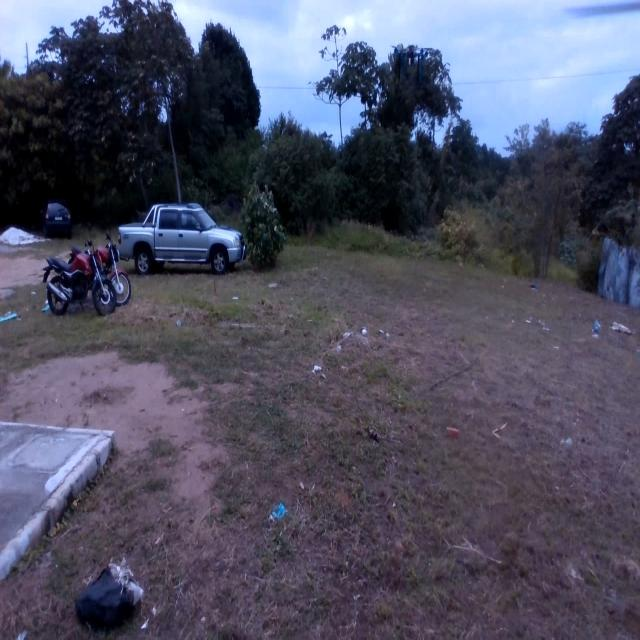-uav-: (385, 28, 432, 102)
